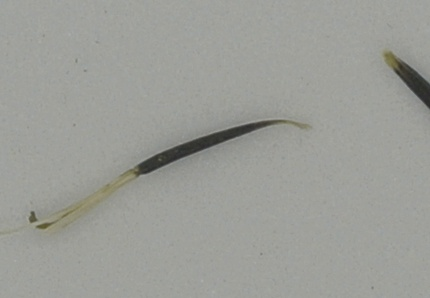เมล็ดดีเรียวยาว: (14, 114, 314, 244)
